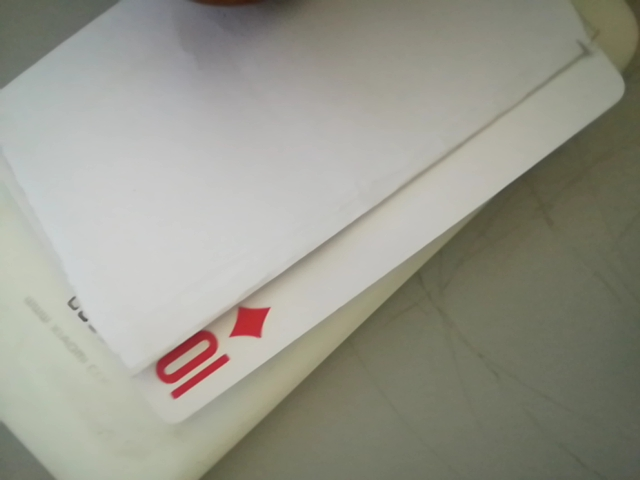fk 10: (140, 299, 284, 412)
